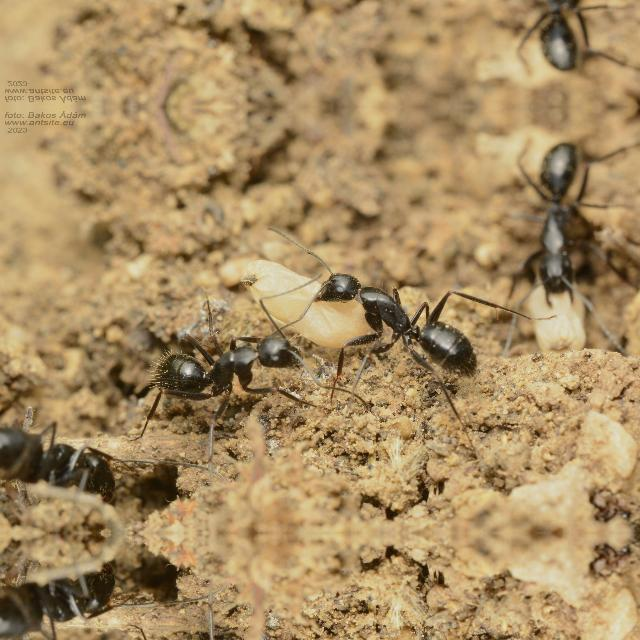Camponotus: (286, 246, 504, 390), (492, 123, 634, 315), (132, 316, 318, 420), (0, 392, 136, 506), (492, 0, 634, 88), (0, 558, 136, 640)
